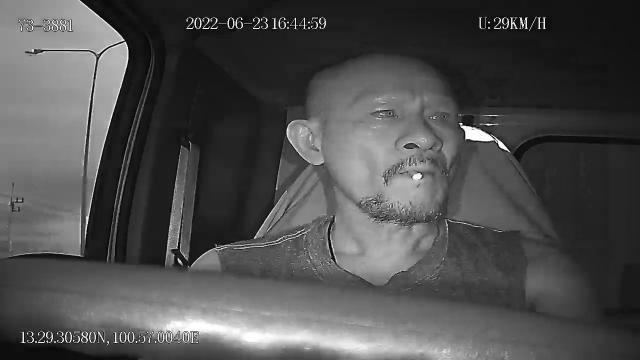SafeDriving: (419, 98, 461, 130), (363, 96, 407, 126)
Smoking: (408, 168, 424, 182)
